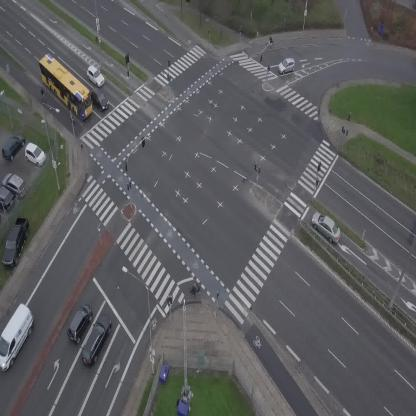bicycle: (189, 283, 202, 296), (39, 86, 46, 100), (265, 36, 274, 46)
bus: (31, 51, 101, 121)
car: (77, 310, 117, 368), (62, 301, 97, 346), (306, 208, 346, 245), (86, 86, 111, 115), (82, 64, 107, 89), (276, 56, 298, 75)
lorry: (0, 302, 42, 374)
